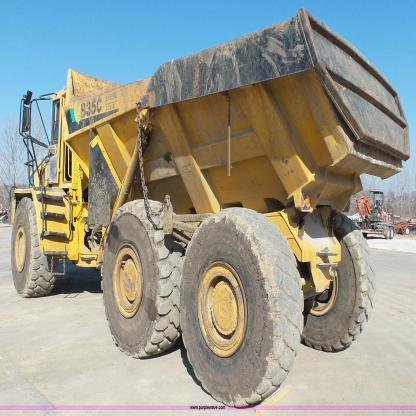dump_truck: (10, 8, 408, 398)
